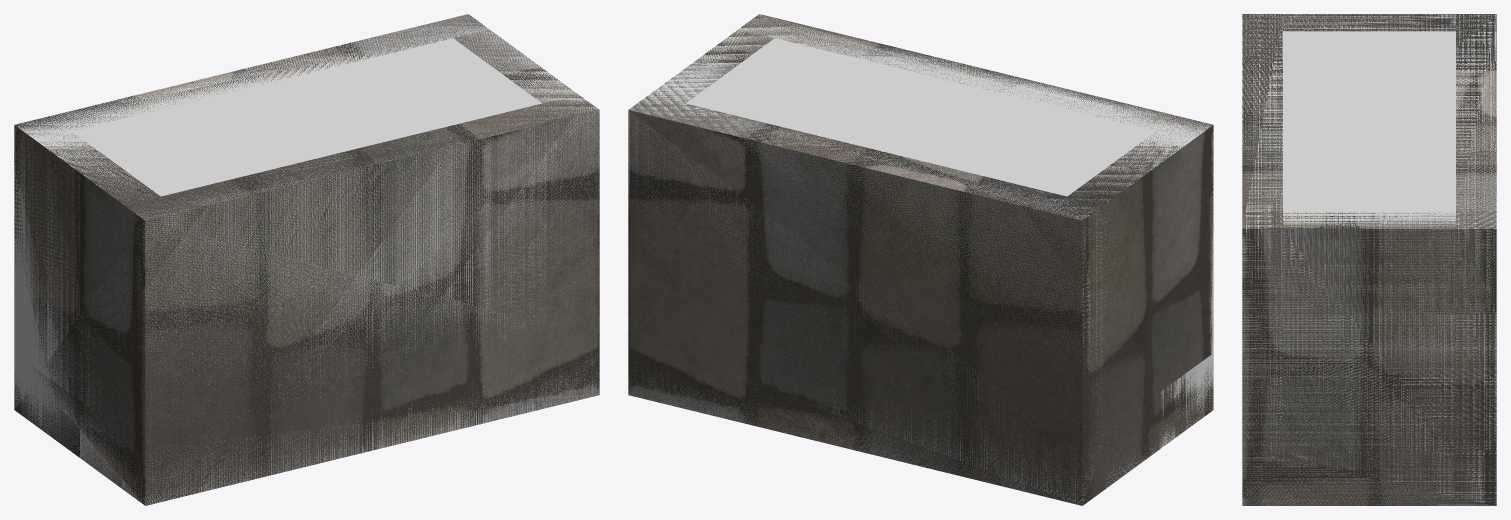
File: quench_trough.glb
The picture shows the model from 3 angles, left to right: view 1: azimuth 30°, elevation 25°; view 2: azimuth 150°, elevation 25°; view 3: azimuth 270°, elevation 25°; orthographic projection. The views are drawn at different scales.
Visible parts, largest first — view 1: quench_trough, COL_HULL_trough; view 2: quench_trough, COL_HULL_trough; view 3: quench_trough, COL_HULL_trough.
Boxes of the visible parts, bbox=[...] form: quench_trough: bbox=[14, 14, 599, 505]; COL_HULL_trough: bbox=[14, 14, 599, 504]; quench_trough: bbox=[628, 14, 1213, 505]; COL_HULL_trough: bbox=[628, 14, 1213, 505]; quench_trough: bbox=[1242, 14, 1496, 505]; COL_HULL_trough: bbox=[1242, 14, 1496, 505].
Size of the model in its own units: 1 by 0.6 by 0.5.
2 materials, 2 textured.
